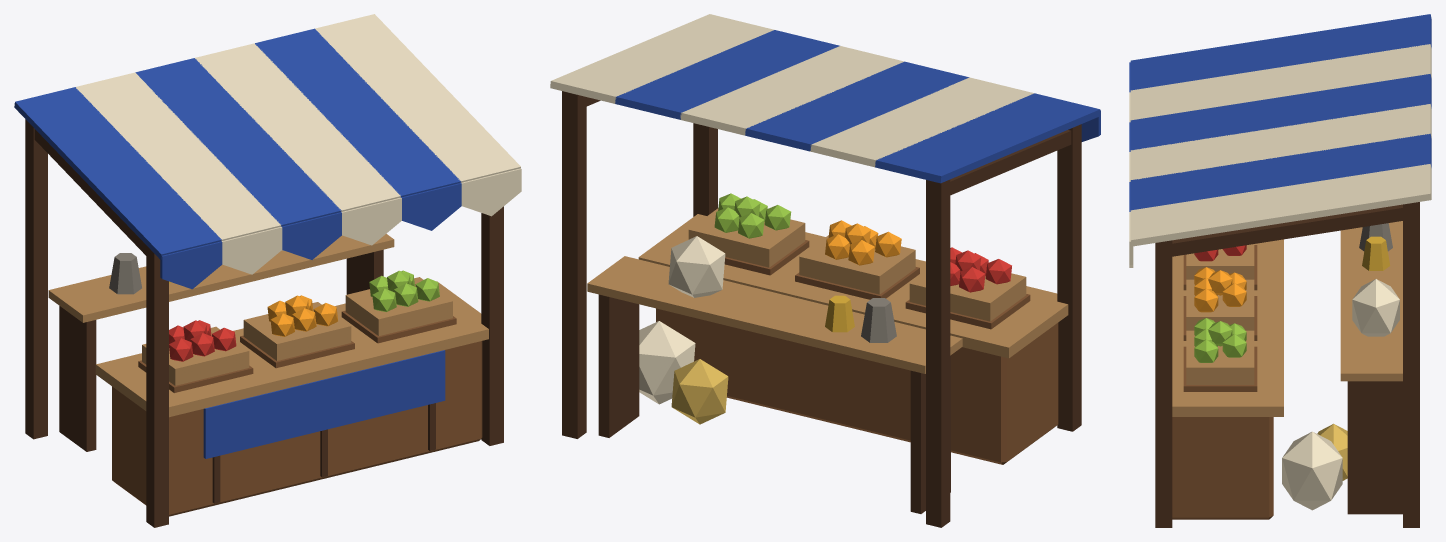
File: Marktstand_Blau.fbx
3 views of the same model, side by side, from view 1: azimuth 30°, elevation 25°; view 2: azimuth 150°, elevation 25°; view 3: azimuth 270°, elevation 25° (orthographic). The views are drawn at different scales.
Parts seen in each view (by area): view 1: Marktstand_Blau; view 2: Marktstand_Blau; view 3: Marktstand_Blau.
Boxes of the visible parts, box(x1,y1,x2,y2) form: Marktstand_Blau: box(14, 14, 521, 527); Marktstand_Blau: box(550, 14, 1100, 527); Marktstand_Blau: box(1129, 14, 1431, 527).
Size of the model in its own units: 3.01 by 2.63 by 2.14.
